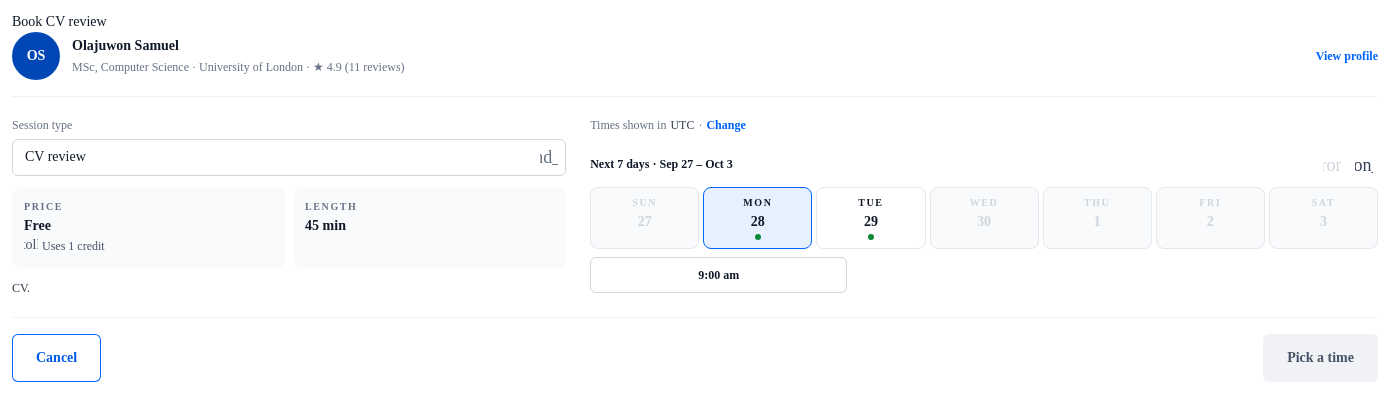
BookingFlow week view (7 days at a time) › clears the chosen time when the week changes
This screenshot has width=1390, height=399.
Click the radio button labelled "9:00 am": (719, 276) [590,258,848,294]
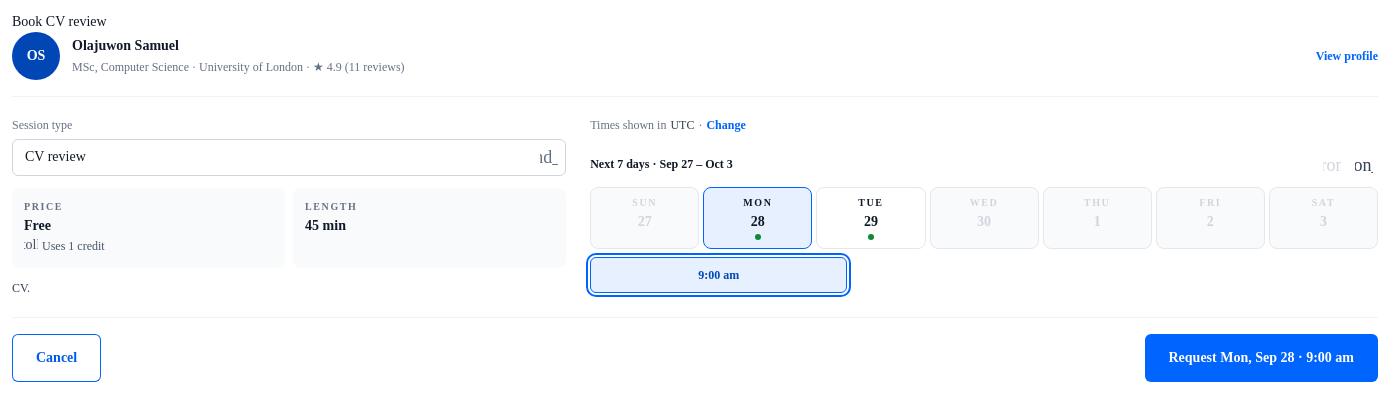
expect the button "Request Mon, Sep 28 · 9:00 am" is enabled: met, box [1144,334,1378,382]
Click the button with aria-label "Later dates": (1364, 165) [1350,151,1378,179]
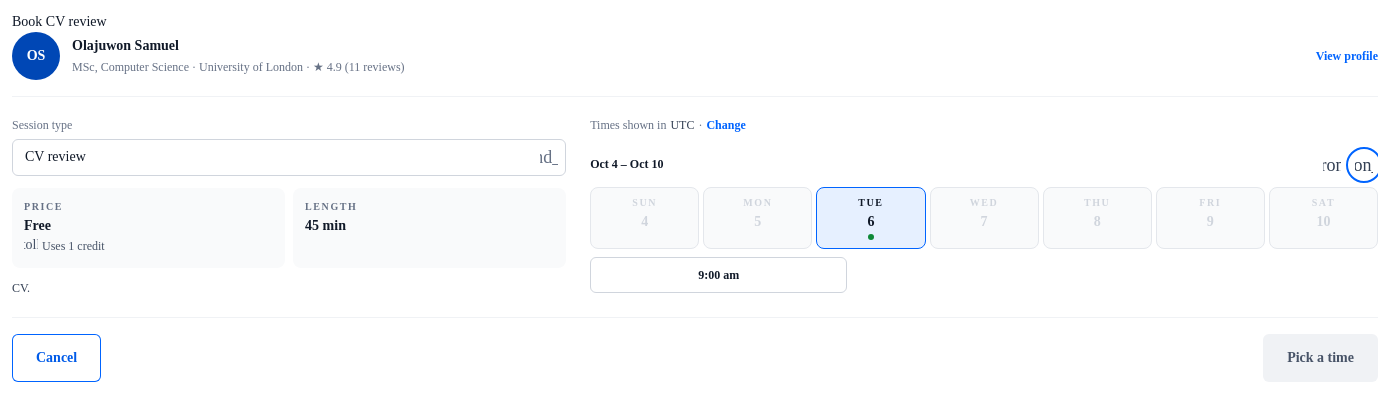
expect the button "Pick a time" is disabled: met, box [1263,334,1378,382]
